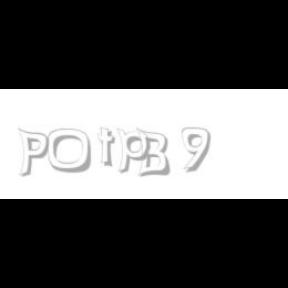9: (182, 128, 210, 172)
B: (136, 128, 170, 178)
O: (48, 128, 92, 174)
P: (17, 128, 49, 178)
p: (116, 128, 154, 174)
t: (98, 128, 120, 168)
